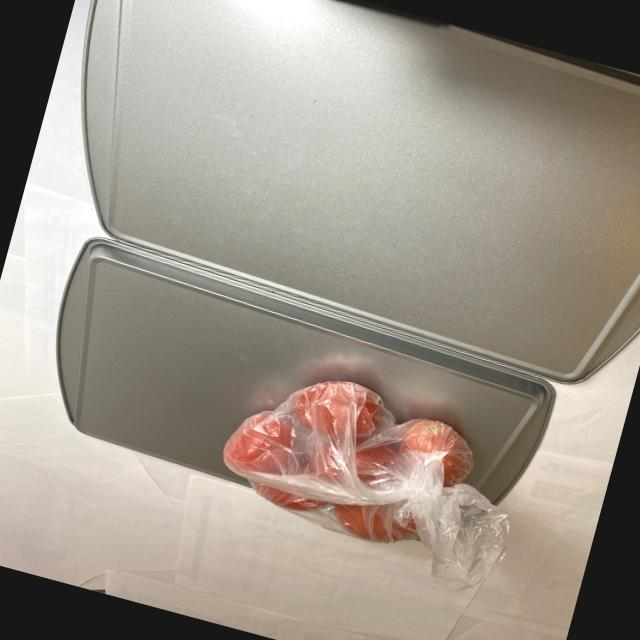tomato: (205, 346, 492, 561)
